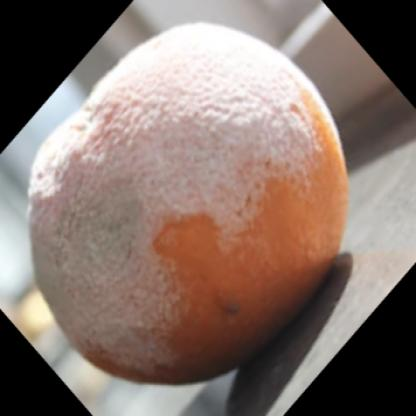rotten: (30, 20, 349, 385)
